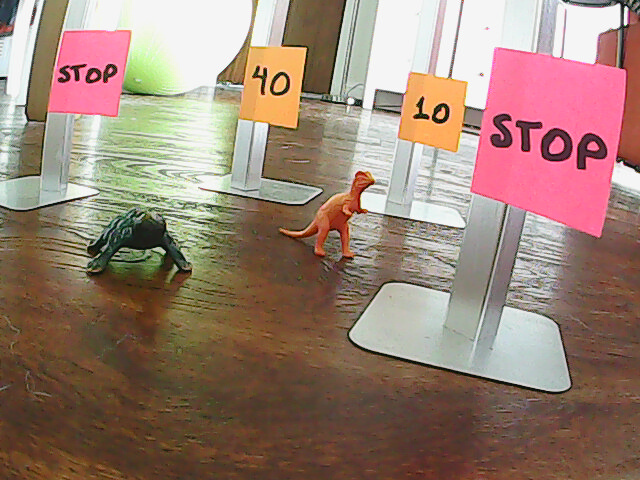10: (406, 85, 458, 136)
40: (245, 50, 299, 124)
dinosaur: (276, 165, 384, 267)
stop: (485, 70, 616, 201), (53, 36, 120, 109)
turtle: (77, 203, 199, 283)
